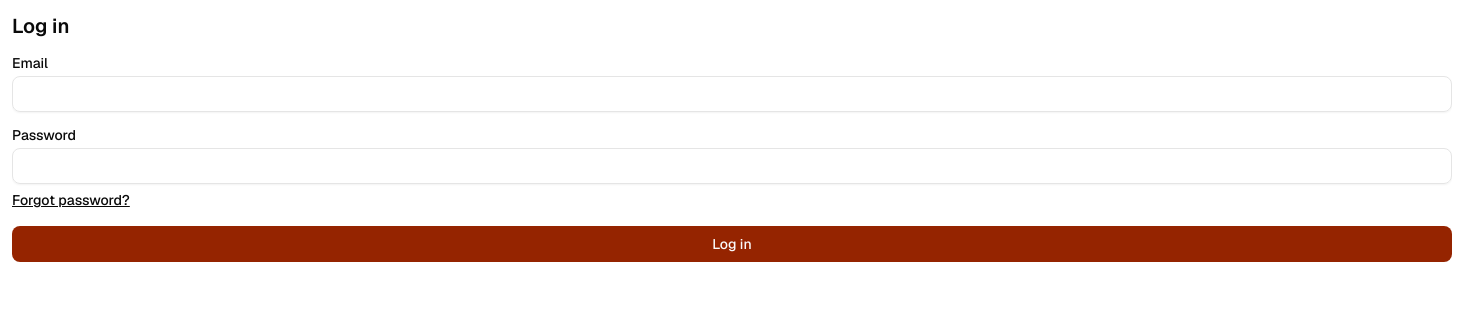
Test: LoginForm › shows 'Invalid email or password' inline on invalid_credentials and stays on the login form
Type "user@example.com" into the field labelled "Email" at (732, 94), box [12, 76, 1452, 112]
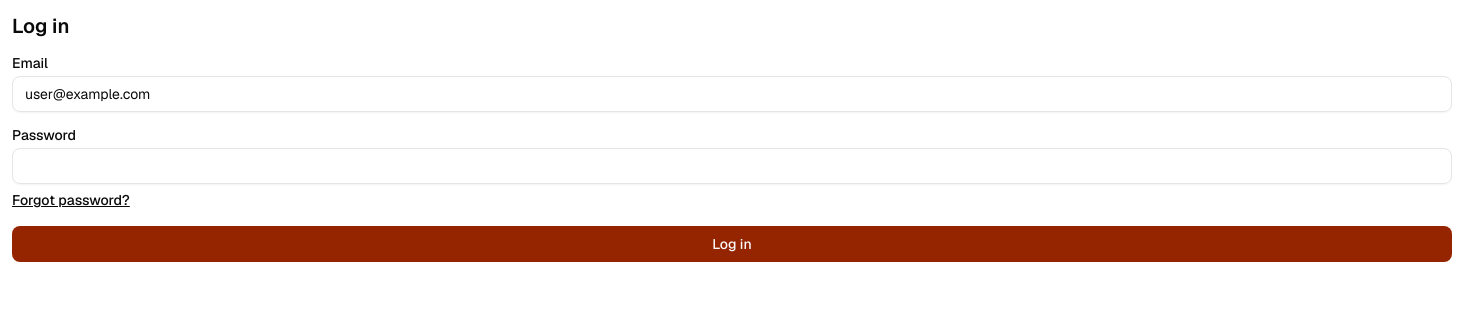
Type "wrongpass1" into the password field labelled "Password" at (732, 166), box [12, 148, 1452, 184]
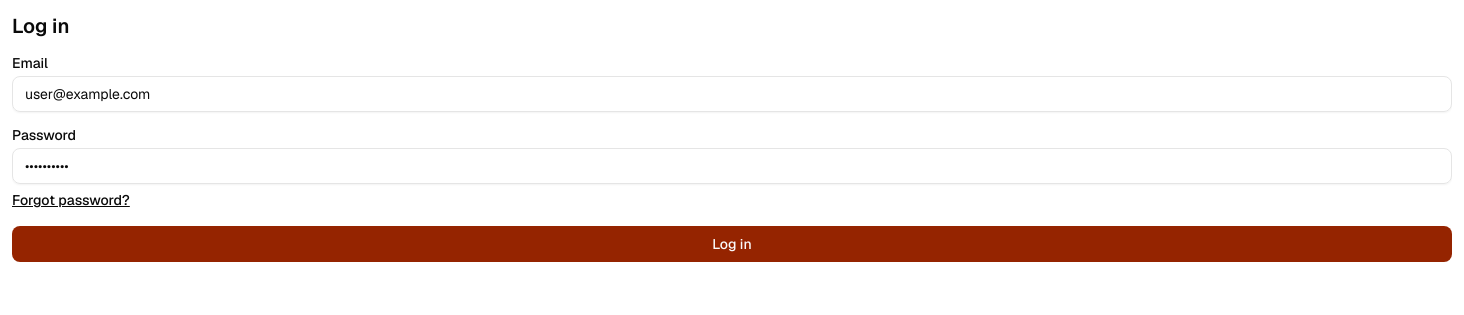
Click the button "Log in" at (732, 244), box [12, 226, 1452, 262]
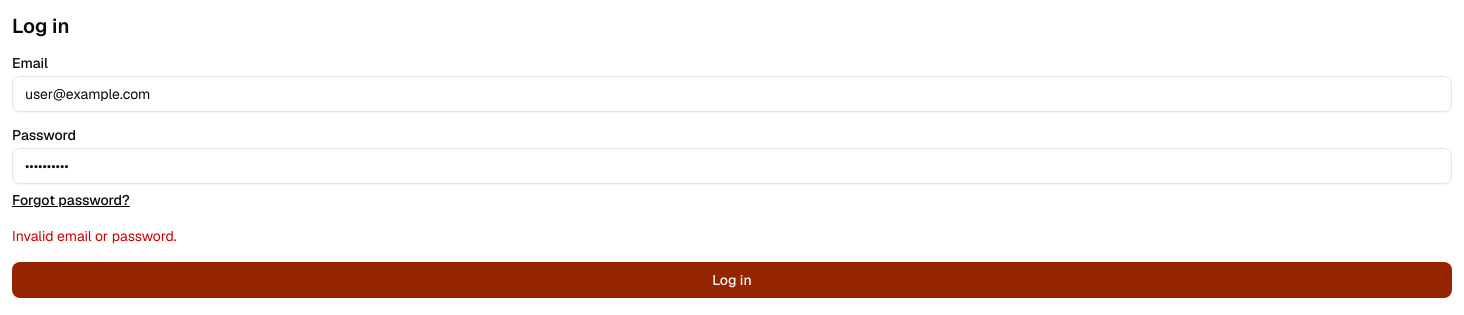
Expected: the message shows "Invalid email or password", [12, 227, 177, 245]
